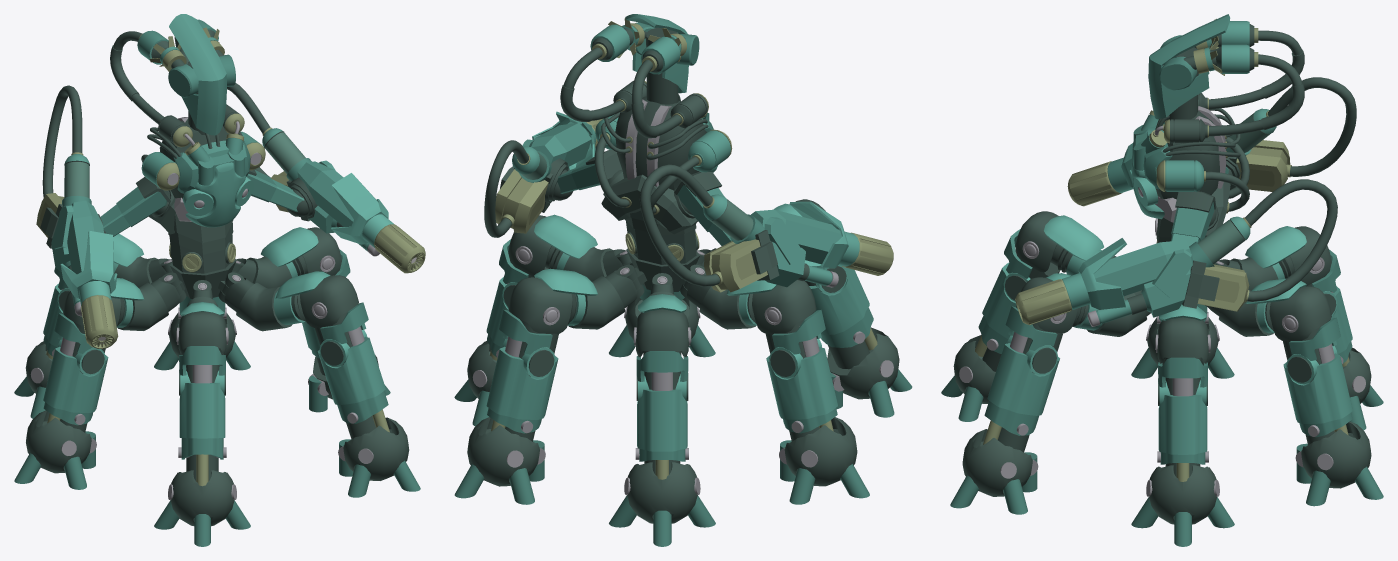
File: HW6 3rd form_2.fbx
3 renders of one model, left to right at view 1: azimuth 30°, elevation 25°; view 2: azimuth 150°, elevation 25°; view 3: azimuth 270°, elevation 25°, orthographic. The views are drawn at different scales.
Visible parts, largest first — view 1: Cube.044, Cylinder.424, Cylinder.490, Roundcube.061, Cylinder.512, Roundcube.058, Roundcube.049, Cylinder.534, SymmVert.002, Roundcube.050, Cylinder.392, Vert.026 (+59 smaller); view 2: Roundcube.055, Cylinder.490, Cylinder.446, Roundcube.052, Roundcube.058, Cylinder.468, Roundcube.041, Vert.026, Roundcube.053, Roundcube.059, Roundcube.061, Cylinder.394 (+57 smaller); view 3: Cylinder.424, Cylinder.446, Roundcube.043, Cube.044, Cylinder.370, Roundcube.052, Roundcube.049, Vert.018, Cylinder.390, Vert.027, Roundcube.053, Vert.026 (+57 smaller).
Part boxes in pixels (x1=…): Cube.044: x1=169, y1=14, x2=226, y2=135; Cylinder.424: x1=317, y1=336, x2=385, y2=405; Cylinder.490: x1=43, y1=346, x2=108, y2=412; Roundcube.061: x1=170, y1=470, x2=234, y2=526; Cylinder.512: x1=179, y1=383, x2=225, y2=438; Roundcube.058: x1=26, y1=410, x2=91, y2=473; Roundcube.049: x1=343, y1=417, x2=409, y2=480; Cylinder.534: x1=60, y1=230, x2=117, y2=298; SymmVert.002: x1=185, y1=162, x2=245, y2=227; Roundcube.050: x1=300, y1=275, x2=358, y2=327; Cylinder.392: x1=331, y1=173, x2=388, y2=244; Vert.026: x1=42, y1=85, x2=82, y2=197; Roundcube.055: x1=627, y1=462, x2=697, y2=523; Cylinder.490: x1=766, y1=346, x2=837, y2=419; Cylinder.446: x1=486, y1=346, x2=558, y2=419; Roundcube.052: x1=467, y1=417, x2=540, y2=486; Roundcube.058: x1=784, y1=417, x2=857, y2=486; Cylinder.468: x1=637, y1=389, x2=687, y2=451; Roundcube.041: x1=615, y1=96, x2=706, y2=190; Vert.026: x1=639, y1=164, x2=719, y2=286; Roundcube.053: x1=508, y1=277, x2=572, y2=333; Roundcube.059: x1=752, y1=280, x2=816, y2=333; Roundcube.061: x1=827, y1=327, x2=899, y2=399; Cylinder.394: x1=495, y1=169, x2=548, y2=233; Cylinder.424: x1=987, y1=343, x2=1059, y2=415; Cylinder.446: x1=1283, y1=353, x2=1352, y2=423; Roundcube.043: x1=1149, y1=465, x2=1216, y2=524; Cube.044: x1=1148, y1=14, x2=1230, y2=119; Cylinder.370: x1=1158, y1=395, x2=1207, y2=454; Roundcube.052: x1=1301, y1=421, x2=1371, y2=488; Roundcube.049: x1=962, y1=429, x2=1032, y2=496; Vert.018: x1=1245, y1=179, x2=1337, y2=301; Cylinder.390: x1=1093, y1=240, x2=1191, y2=296; Vert.027: x1=1209, y1=30, x2=1302, y2=136; Roundcube.053: x1=1270, y1=286, x2=1331, y2=340; Vert.026: x1=1267, y1=77, x2=1356, y2=176.
Size of the model in its own units: 509 by 529 by 488.
